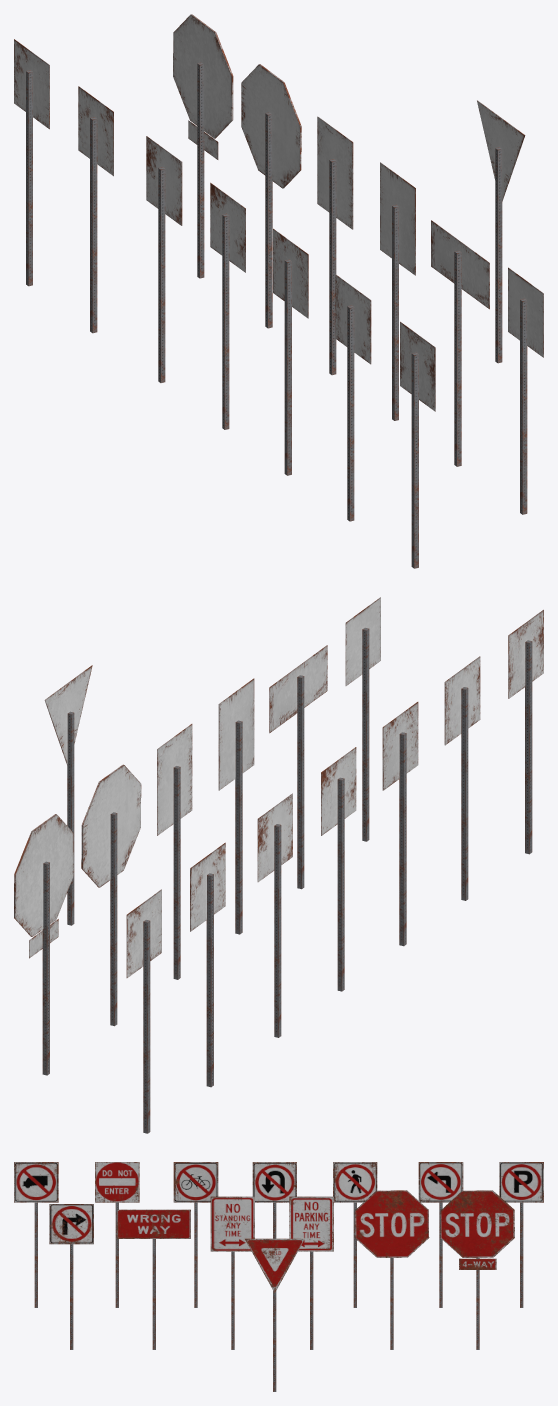
File: warning_signs_set.glb
3 renders of one model, top to bottom at view 1: azimuth 30°, elevation 25°; view 2: azimuth 150°, elevation 25°; view 3: azimuth 270°, elevation 25°, orthographic. The views are drawn at different scales.
Visible parts, largest first — view 1: pCylinder1, pCylinder4, pCube76, pCube75, pCube74, pCube66, pCube71, pCube68, pCube72, pCube69, pCube67, pCube70 (+16 smaller); view 2: pCylinder4, pCylinder1, pCube75, pCube76, pCube74, pCube67, pCube66, pCube65, pCube71, pCube70, pCube68, pCube69 (+16 smaller); view 3: pCylinder1, pCylinder4, pCube75, pCube76, pCube74, pCube65, pCube66, pCube69, pCube67, pCube70, pCube68, pCube72 (+16 smaller).
Part boxes in pixels (x1,y1,x2,y2): pCylinder1: (173,14,233,138); pCylinder4: (241,64,301,188); pCube76: (317,116,353,229); pCube75: (380,162,415,275); pCube74: (431,220,489,309); pCube66: (335,274,371,364); pCube71: (146,136,182,225); pCube68: (210,182,245,272); pCube72: (78,86,113,176); pCube69: (508,267,543,357); pCube67: (273,228,308,318); pCube70: (14,39,49,129); pCylinder4: (81,764,141,887); pCylinder1: (14,814,73,936); pCube75: (218,678,254,790); pCube76: (157,724,192,835); pCube74: (269,645,327,733); pCube67: (382,702,418,790); pCube66: (444,656,480,745); pCube65: (508,609,543,698); pCube71: (257,793,292,882); pCube70: (126,889,161,977); pCube68: (321,747,356,835); pCube69: (345,597,380,685); pCylinder1: (440,1190,514,1257); pCylinder4: (355,1190,429,1257); pCube75: (210,1196,254,1251); pCube76: (289,1196,333,1251); pCube74: (117,1209,190,1238); pCube65: (14,1162,58,1202); pCube66: (95,1162,139,1202); pCube69: (49,1204,93,1244); pCube67: (173,1162,218,1202); pCube70: (499,1162,543,1202); pCube68: (252,1162,296,1202); pCube72: (418,1162,463,1202).
Bounding box in the file's own units: 20.37 × 17.75 × 53.48.
Materials: 1 (1 with a texture image).
